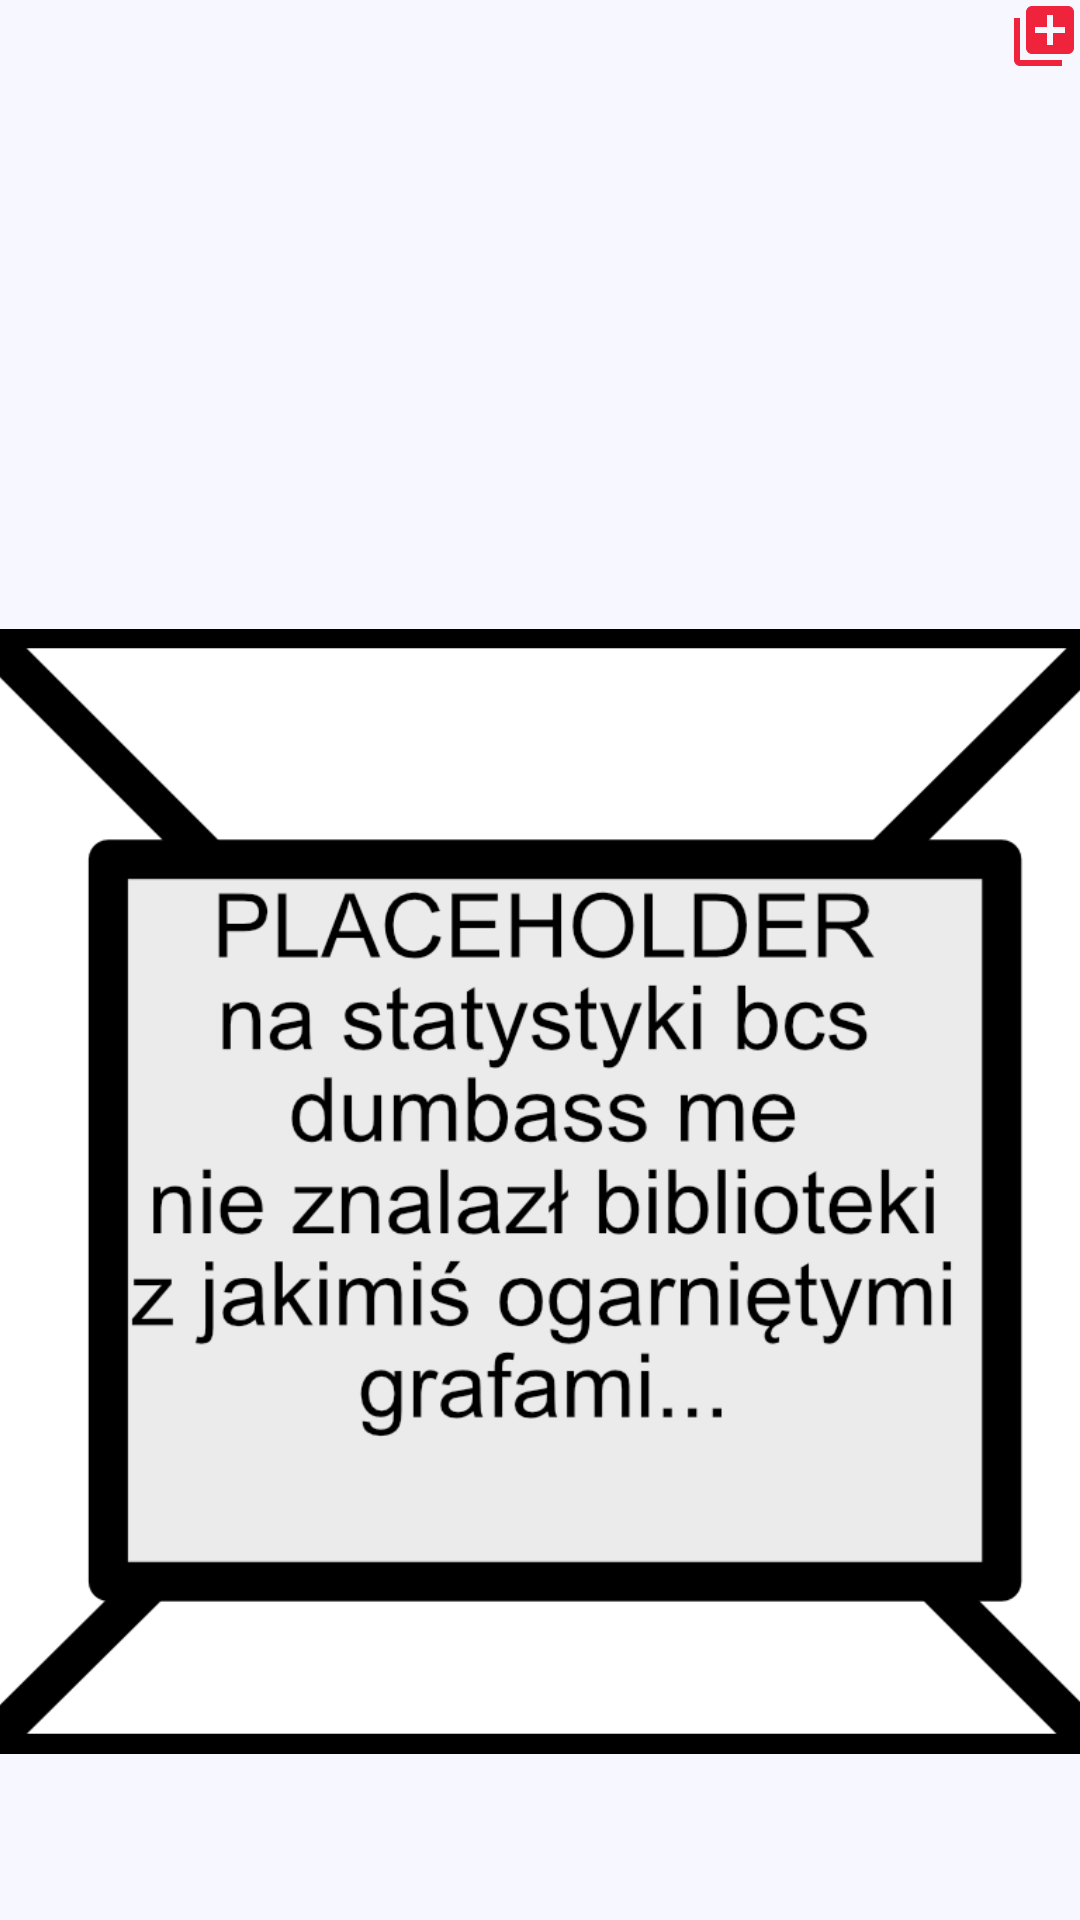

Icon click points for this 1080x1920 phone screenshot, format (x=x, y=y):
add: (x=1044, y=36)
